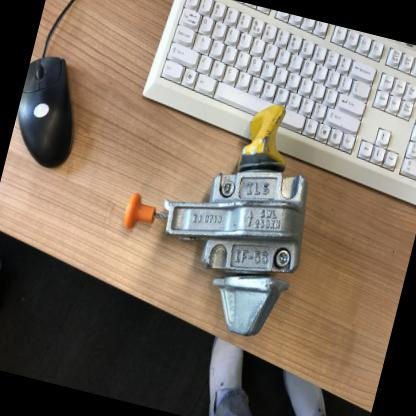Twistlock: (100, 72, 339, 350)
